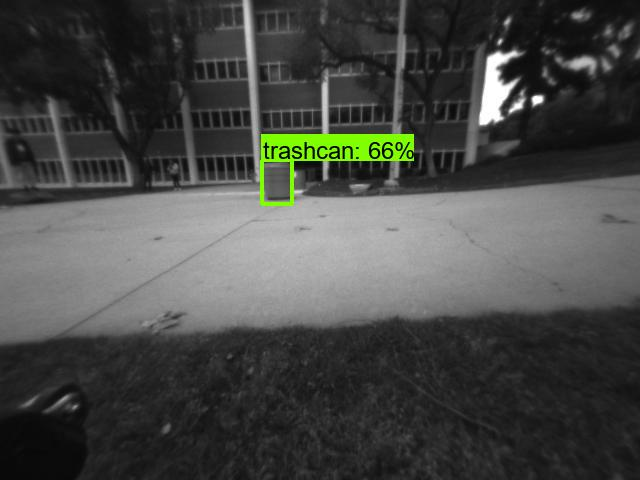trashcan: (261, 161, 295, 197)
